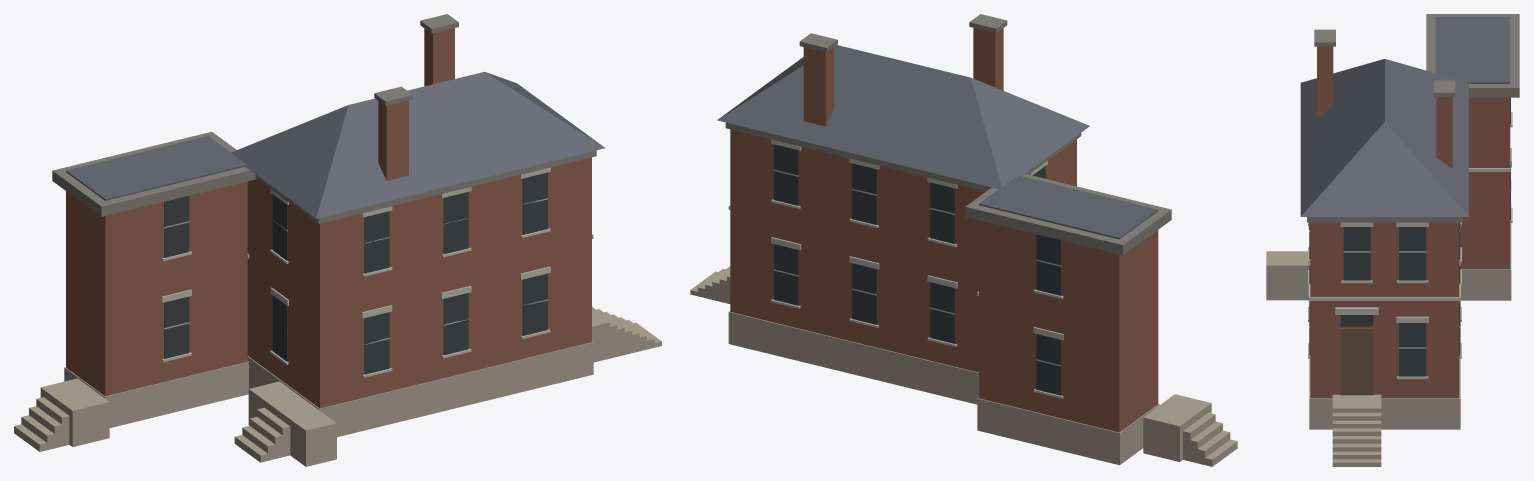
File: house_1909_indiana__draft_1904.glb
3 renders of one model, left to right at view 1: azimuth 30°, elevation 25°; view 2: azimuth 150°, elevation 25°; view 3: azimuth 270°, elevation 25°, orthographic. The views are drawn at different scales.
Parts seen in each view (by area): view 1: house_1909_indiana__draft_1904; view 2: house_1909_indiana__draft_1904; view 3: house_1909_indiana__draft_1904.
Part boxes in pixels (x1,y1,x2,y2): house_1909_indiana__draft_1904: (14,14,661,466); house_1909_indiana__draft_1904: (690,14,1237,466); house_1909_indiana__draft_1904: (1266,14,1519,466).
Bounding box in the file's own units: 23.25 × 12.4 × 9.35.
